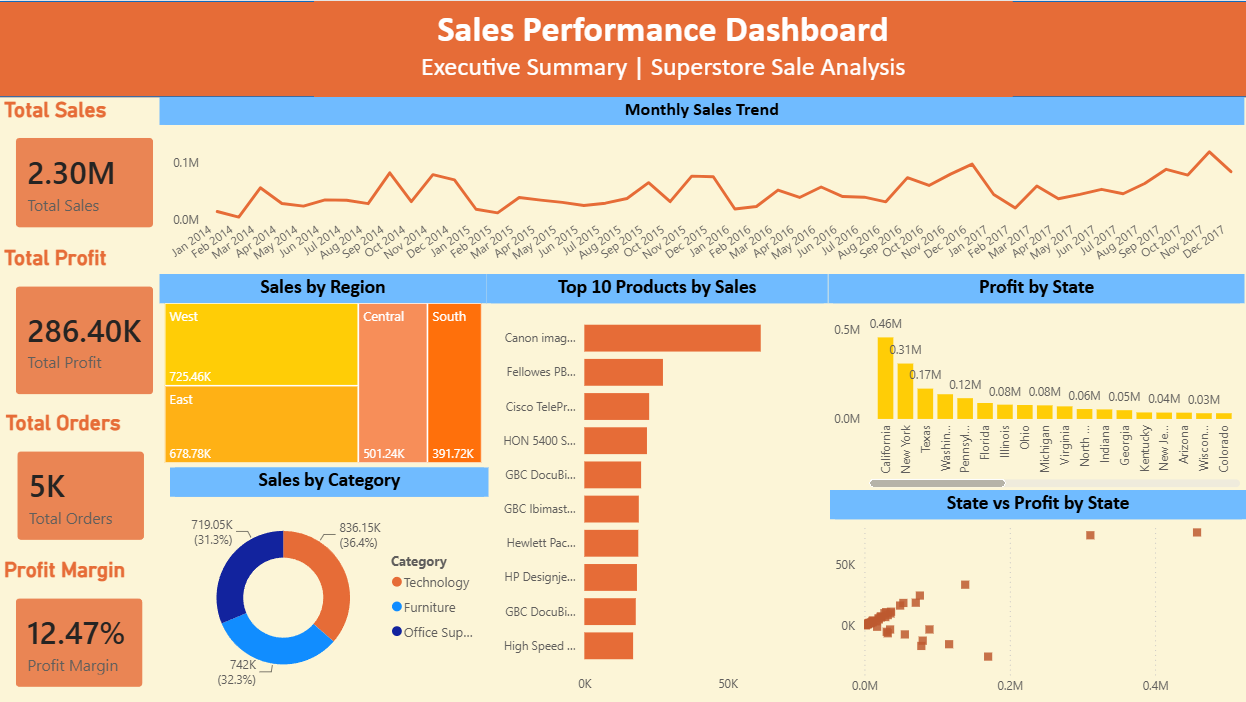

The dashboard page shown, as its layout file describes it:
{"tool":"powerbi","page":{"name":"Executive Summary","canvas":[1280,720],"ordinal":0},"visuals":[{"type":"cardVisual","title":"Total Sales","fields":{"Data":["Sample - Superstore.Total Sales"]},"box":[0,98.7,175.7,151.4],"z":0},{"type":"cardVisual","title":"Total Profit","fields":{"Data":["Sample - Superstore.Total Profit"]},"box":[0,250.1,175.7,170.3],"z":1000},{"type":"cardVisual","title":"Total Orders","fields":{"Data":["Sample - Superstore.Total Orders"]},"box":[1.4,420.4,164.9,150],"z":2000},{"type":"cardVisual","title":"Profit Margin","fields":{"Data":["Sample - Superstore.Profit Margin"]},"box":[0,570.4,164.9,150],"z":3000},{"type":"shape","box":[0,0,1280.1,98.7],"z":5000},{"type":"textbox","box":[323.1,0,716.4,98.7],"z":6000},{"type":"lineChart","title":"Monthly Sales Trend","fields":{"Category":["Calendar.Month Year"],"Y":["Sample - Superstore.Total Sales"]},"box":[164.9,98.7,1112.5,182.5],"z":6001},{"type":"treemap","title":"Sales by Region","fields":{"Group":["Sample - Superstore.Region"],"Values":["Sample - Superstore.Total Sales"]},"box":[165,280,335,198.3],"z":6002},{"type":"donutChart","title":"Sales by Category","fields":{"Category":["Sample - Superstore.Category"],"Y":["Sample - Superstore.Total Sales"]},"box":[175,478.3,326.7,241.7],"z":6003},{"type":"clusteredBarChart","title":"Top 10 Products by Sales","fields":{"Category":["Sample - Superstore.Product Name"],"Y":["Sample - Superstore.Total Sales"]},"box":[500,280,350,438.3],"z":6004},{"type":"clusteredColumnChart","title":"Profit by State","fields":{"Category":["Sample - Superstore.State"],"Y":["Sample - Superstore.Total Sales"]},"box":[850,280,426.7,223.3],"z":6005},{"type":"scatterChart","title":"State vs Profit by State","fields":{"Category":["Sample - Superstore.State"],"X":["Sample - Superstore.Total Sales"],"Y":["Sample - Superstore.Total Profit"]},"box":[851.7,501.7,426.7,218.3],"z":6006}]}

Visuals, with their boxes in screenshot pixels (x1, y1, x2, y2), scaled from the page's 1280x720 canvas onto the 1246x702 screenshot:
"Total Sales" cardVisual: 0 96 171 244
"Total Profit" cardVisual: 0 244 171 410
"Total Orders" cardVisual: 1 410 162 556
"Profit Margin" cardVisual: 0 556 161 701
shape: 0 0 1245 96
textbox: 315 0 1012 96
"Monthly Sales Trend" lineChart: 161 96 1243 274
"Sales by Region" treemap: 161 273 487 466
"Sales by Category" donutChart: 170 466 488 701
"Top 10 Products by Sales" clusteredBarChart: 487 273 827 700
"Profit by State" clusteredColumnChart: 827 273 1243 491
"State vs Profit by State" scatterChart: 829 489 1244 701
